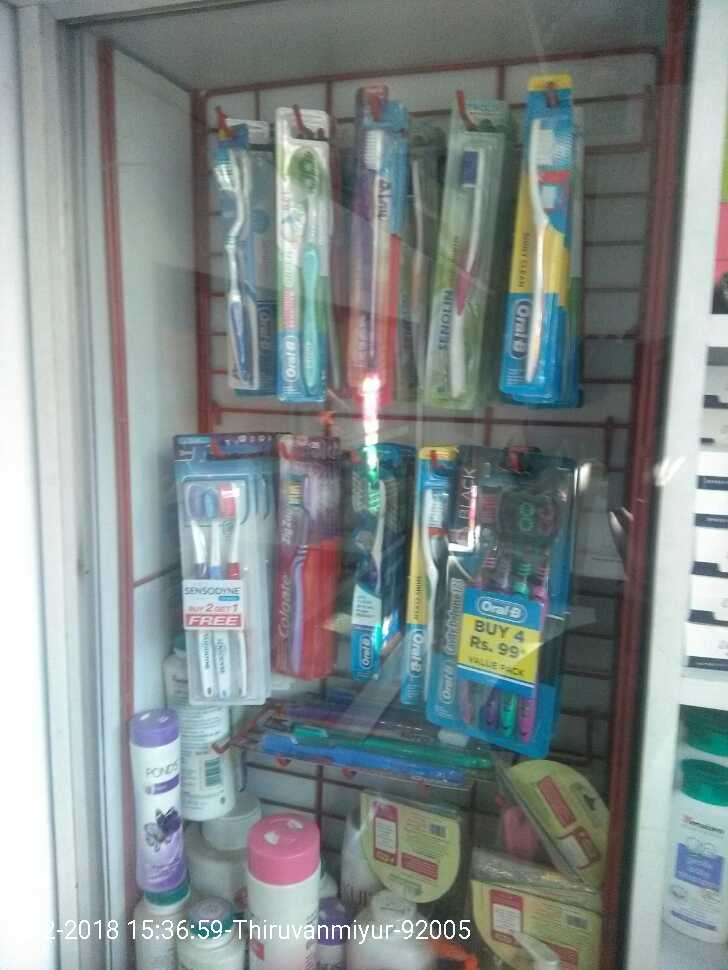oralb: (471, 475, 563, 750), (278, 137, 342, 403), (513, 110, 571, 386), (208, 137, 264, 398), (402, 485, 453, 730), (352, 465, 396, 680)
